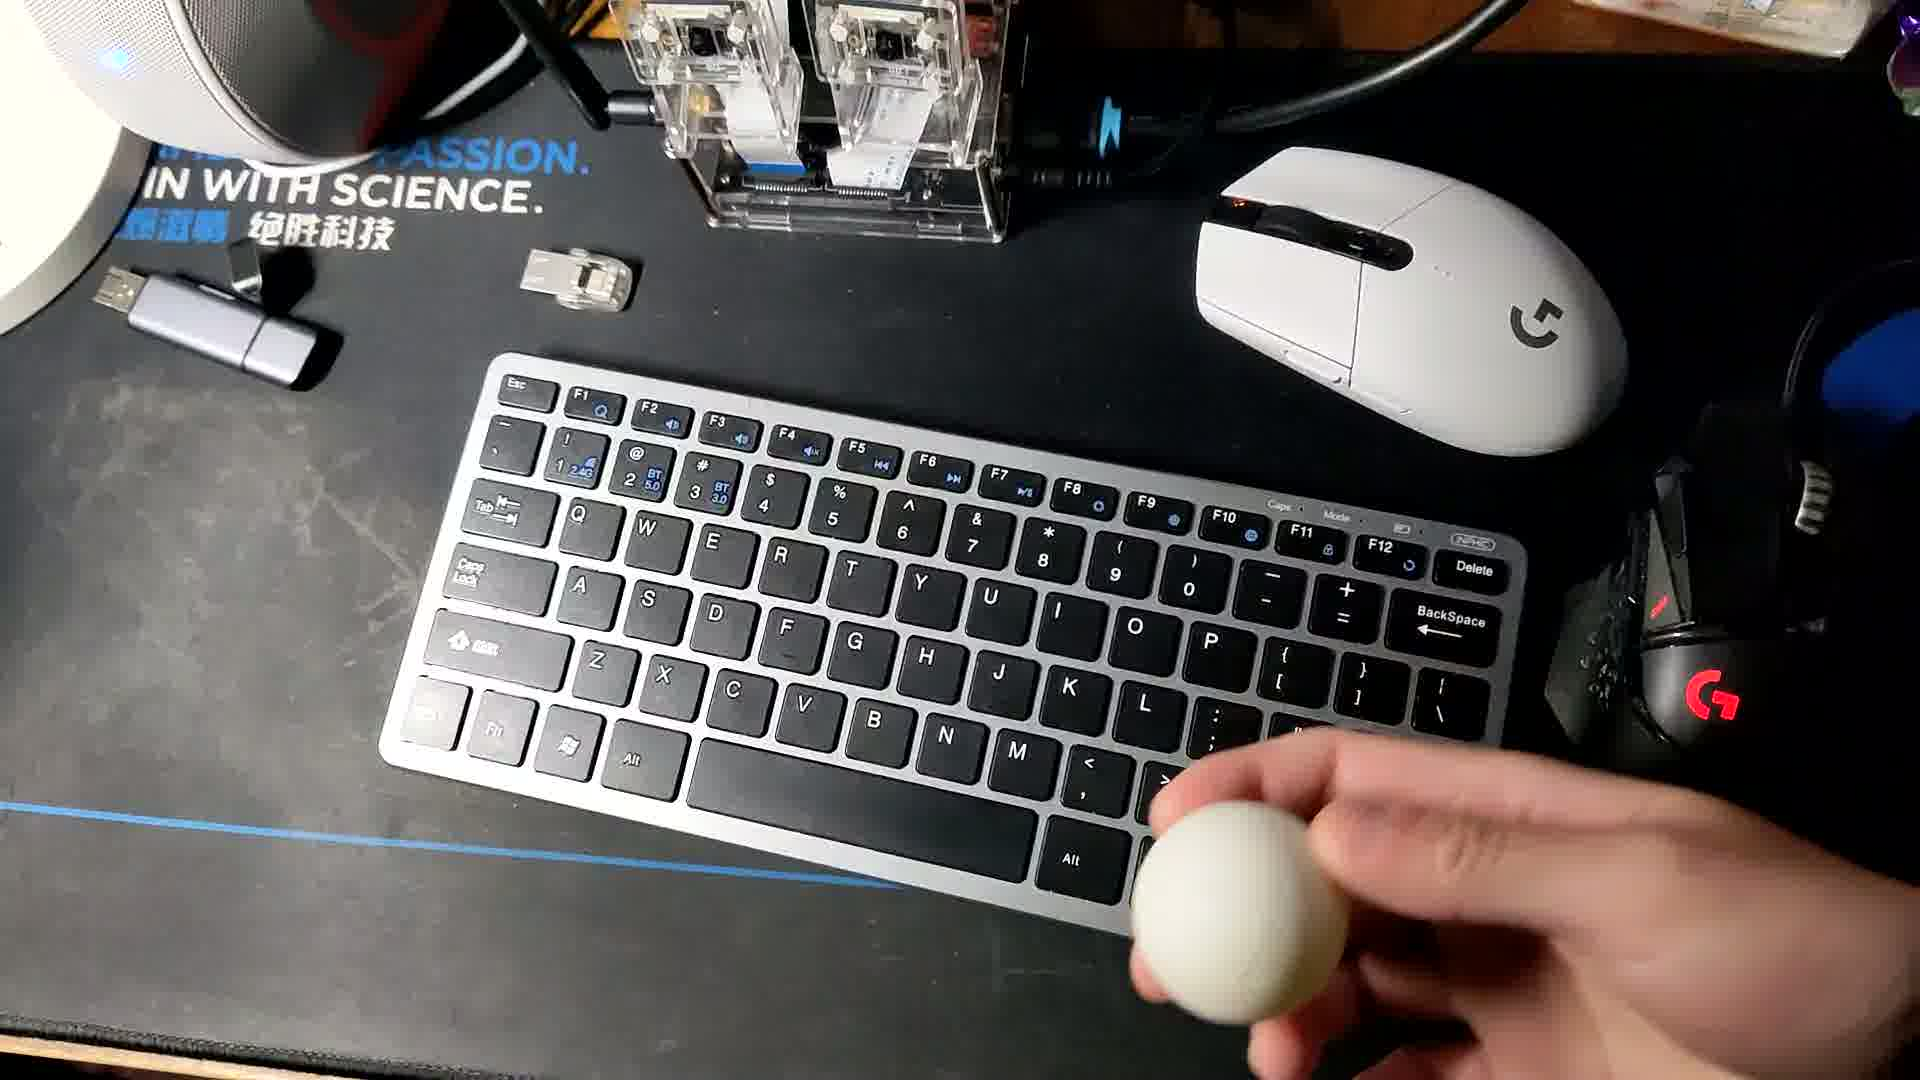Ball: (1118, 793, 1349, 1017)
